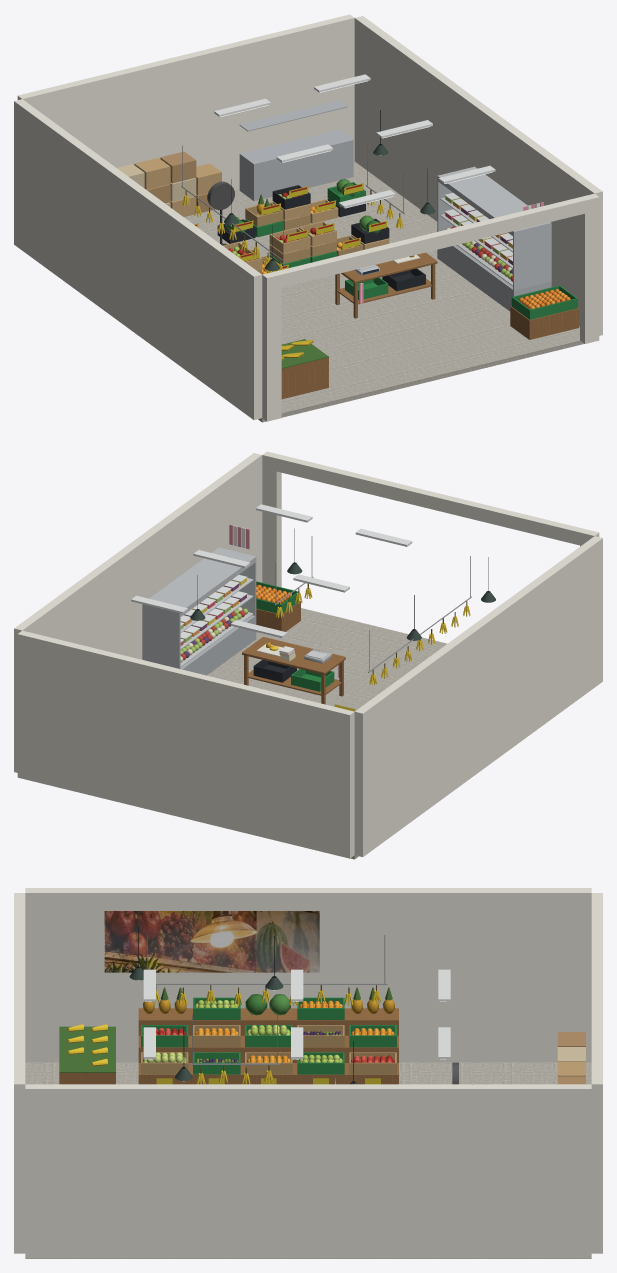
The model's file is gg_xianguo_interior.glb.
The picture shows the model from 3 angles, top to bottom: view 1: azimuth 30°, elevation 25°; view 2: azimuth 150°, elevation 25°; view 3: azimuth 270°, elevation 25°; orthographic projection. The views are drawn at different scales.
Visible parts, largest first — view 1: WALL_W, WALL_N, S_floor, WALL_E, S_vc, WALL_S, S_vcm, S_steel, S_wood, CEIL_vc; view 2: WALL_N, WALL_W, WALL_E, S_vcm, S_floor, WALL_S, S_vc, S_wood, CEIL_vc; view 3: WALL_E, WALL_W, S_vc, S_pics, S_wood, S_floor, WALL_N, WALL_S, CEIL_vc, S_vcm.
Boxes of the visible parts, x1,y1,x2,y2 form: WALL_W: (14, 99, 262, 419); WALL_N: (17, 14, 354, 190); S_floor: (184, 161, 584, 422); WALL_E: (354, 16, 602, 335); S_vc: (117, 110, 577, 368); WALL_S: (262, 193, 599, 421); S_vcm: (181, 144, 551, 311); S_steel: (239, 100, 353, 200); S_wood: (281, 252, 579, 399); CEIL_vc: (214, 74, 495, 208); WALL_N: (17, 630, 354, 858); WALL_W: (354, 536, 602, 856); WALL_E: (14, 453, 262, 772); S_vcm: (142, 536, 495, 675); S_floor: (207, 608, 446, 859); WALL_S: (262, 451, 599, 587); S_vc: (180, 524, 488, 711); S_wood: (242, 601, 345, 704); CEIL_vc: (131, 504, 412, 638); WALL_E: (25, 1084, 591, 1258); WALL_W: (25, 888, 591, 1062); S_vc: (59, 926, 585, 1084); S_pics: (104, 911, 319, 972); S_wood: (59, 1008, 398, 1084); S_floor: (25, 1062, 591, 1258); WALL_N: (591, 893, 602, 1253); WALL_S: (14, 893, 25, 1253); CEIL_vc: (143, 969, 450, 1059); S_vcm: (129, 935, 458, 1084).
Size of the model in its own units: 8.4 by 3.4 by 10.4.
Materials: 10 (3 with a texture image).
